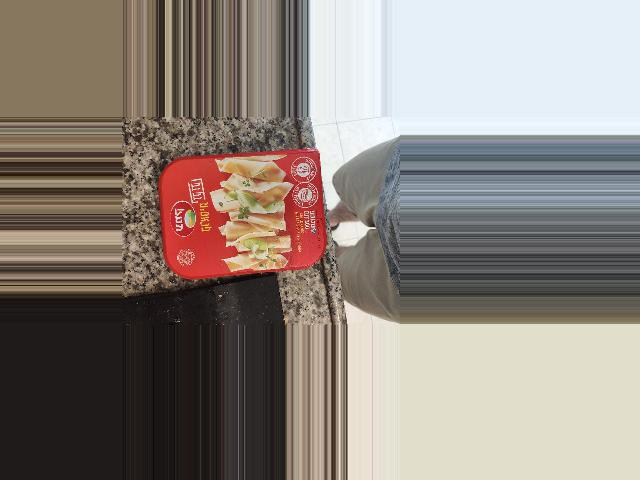cheese: (207, 162, 360, 294)
